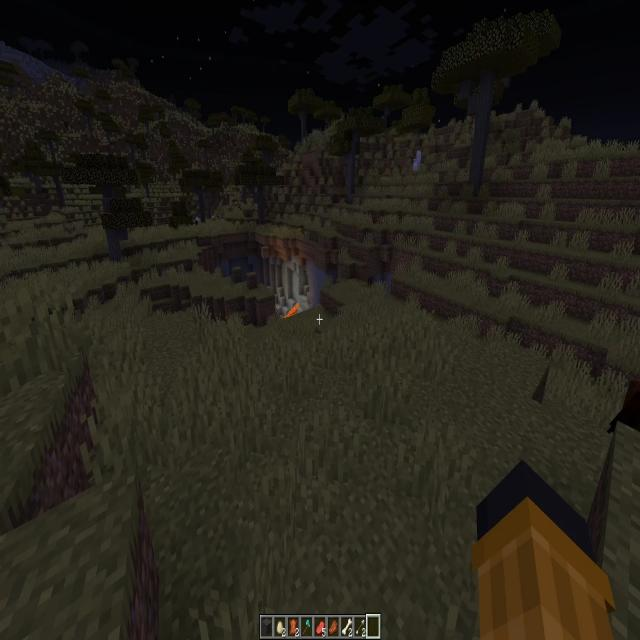Sheep: (414, 160, 420, 171), (416, 149, 422, 159)
